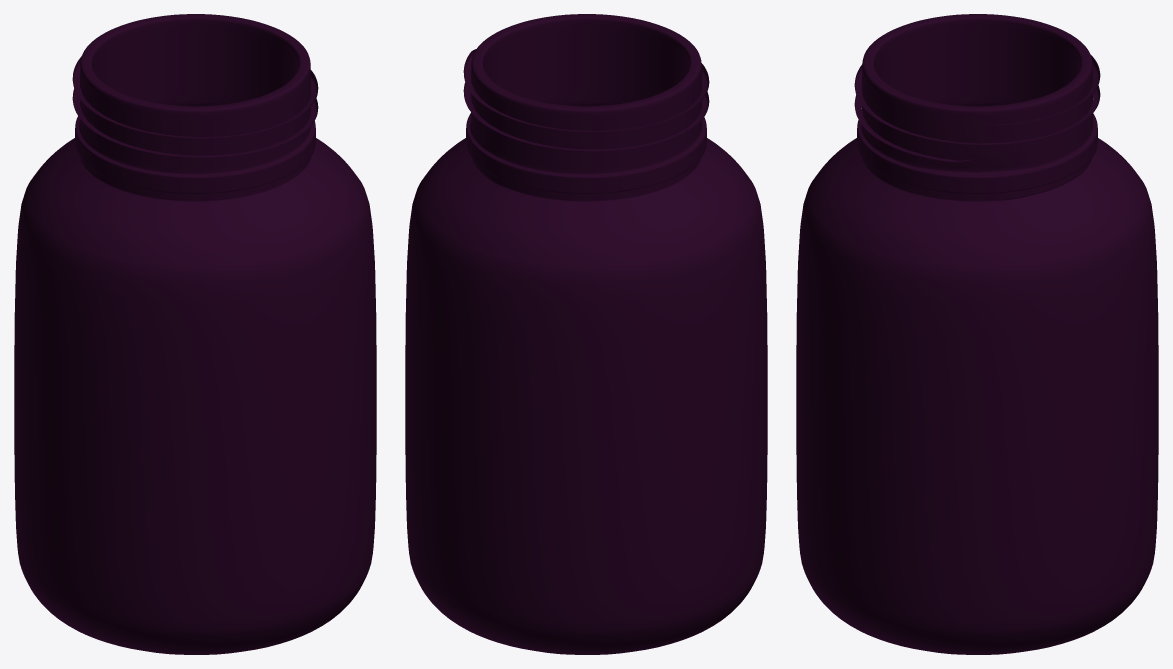
Rendered from PillsBottle.fbx.
3 views of the same model, side by side, from view 1: azimuth 30°, elevation 25°; view 2: azimuth 150°, elevation 25°; view 3: azimuth 270°, elevation 25° (orthographic).
Visible parts, largest first — view 1: bottle; view 2: bottle; view 3: bottle.
Boxes of the visible parts, bbox=[...] form: bottle: bbox=[14, 14, 376, 654]; bottle: bbox=[405, 14, 767, 654]; bottle: bbox=[796, 14, 1158, 654].
Bounding box in the file's own units: 0.2805 × 0.4554 × 0.2805.
